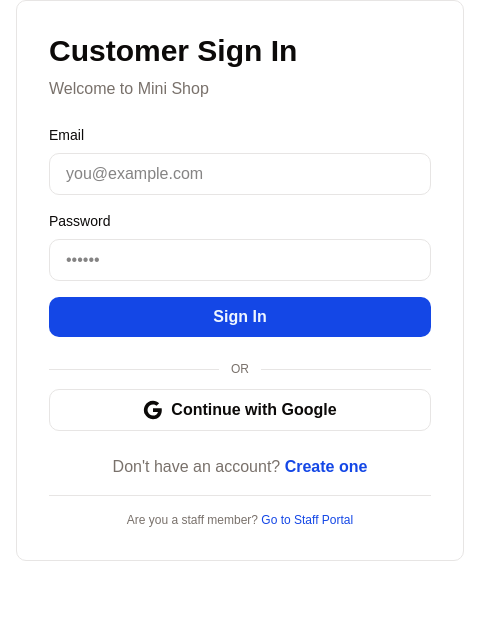
LoginPage › shows validation errors for empty submission
Click the button "Sign In": point(240, 317) [49,297,431,337]
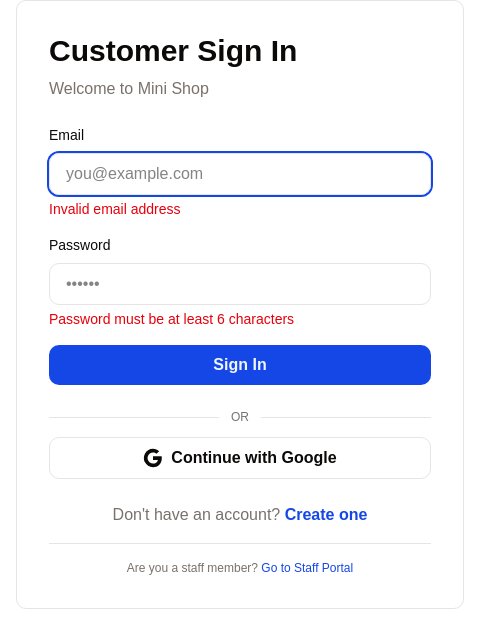
Expected: the text "Invalid email address" is shown, [49,201,180,217]
